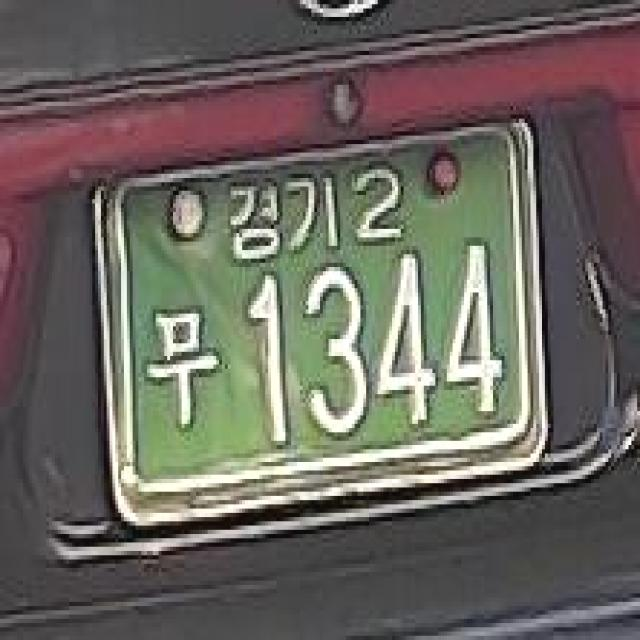illegal_plate: (86, 110, 558, 542)
